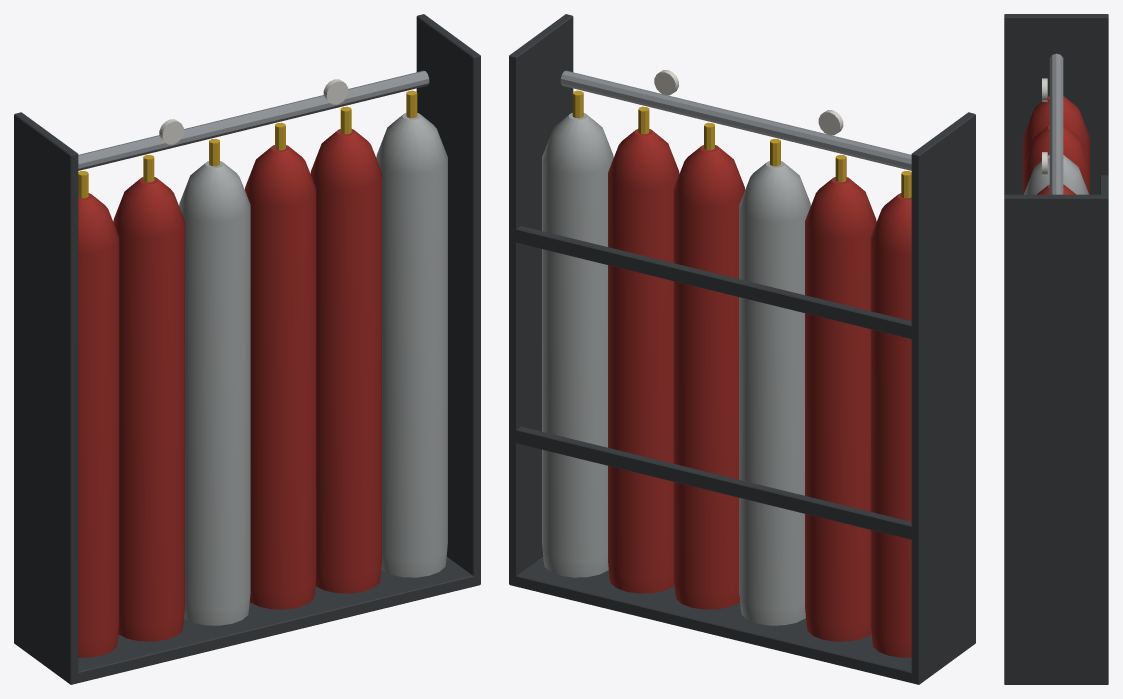
Rendered from prop_gas_cylinders.glb.
3 renders of one model, left to right at view 1: azimuth 30°, elevation 25°; view 2: azimuth 150°, elevation 25°; view 3: azimuth 270°, elevation 25°, orthographic. The views are drawn at different scales.
Parts seen in each view (by area): view 1: Bank; view 2: Bank; view 3: Bank.
Part boxes in pixels (x1,y1,x2,y2): Bank: [14, 14, 480, 684]; Bank: [509, 14, 975, 684]; Bank: [1004, 14, 1108, 684].
Size of what is drawn, in the model's own units: 1.5 by 1.85 by 0.36.
